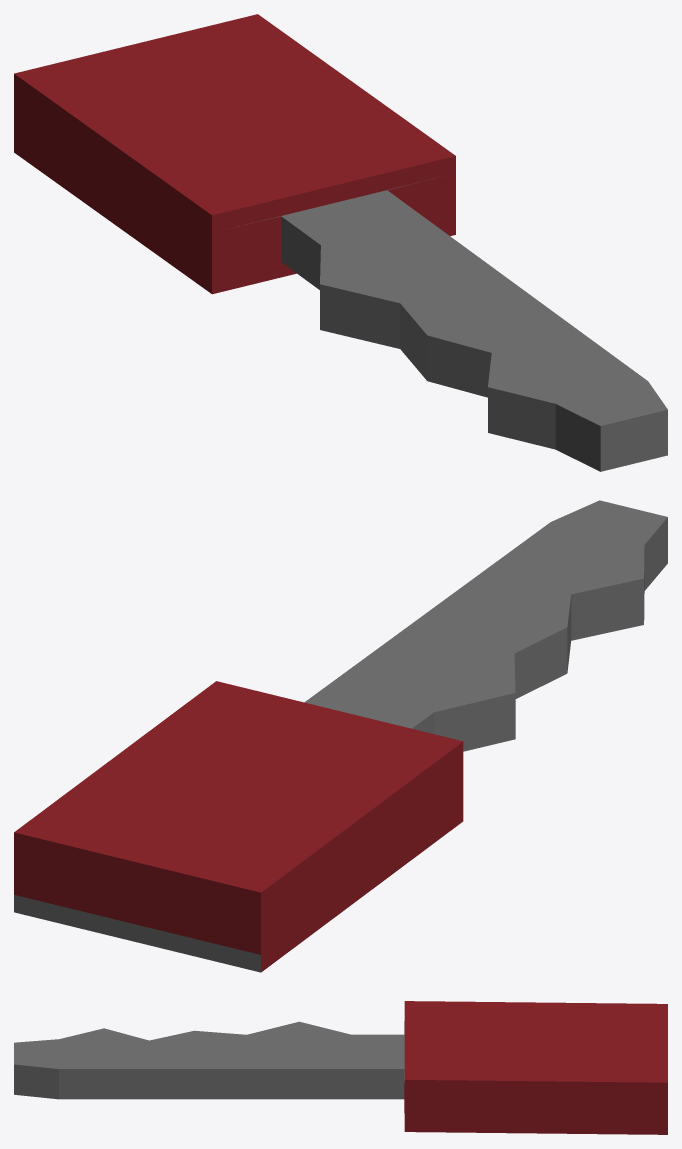
File: Key.fbx
3 views of the same model, one above another, from view 1: azimuth 30°, elevation 25°; view 2: azimuth 150°, elevation 25°; view 3: azimuth 270°, elevation 25° (orthographic). The views are drawn at different scales.
Parts seen in each view (by area): view 1: Plane; view 2: Plane; view 3: Plane.
Boxes of the visible parts, x1,y1,x2,y2 form: Plane: (14, 14, 667, 471); Plane: (14, 500, 667, 972); Plane: (14, 1001, 667, 1134).
Bounding box in the file's own units: 207 × 67.12 × 725.
